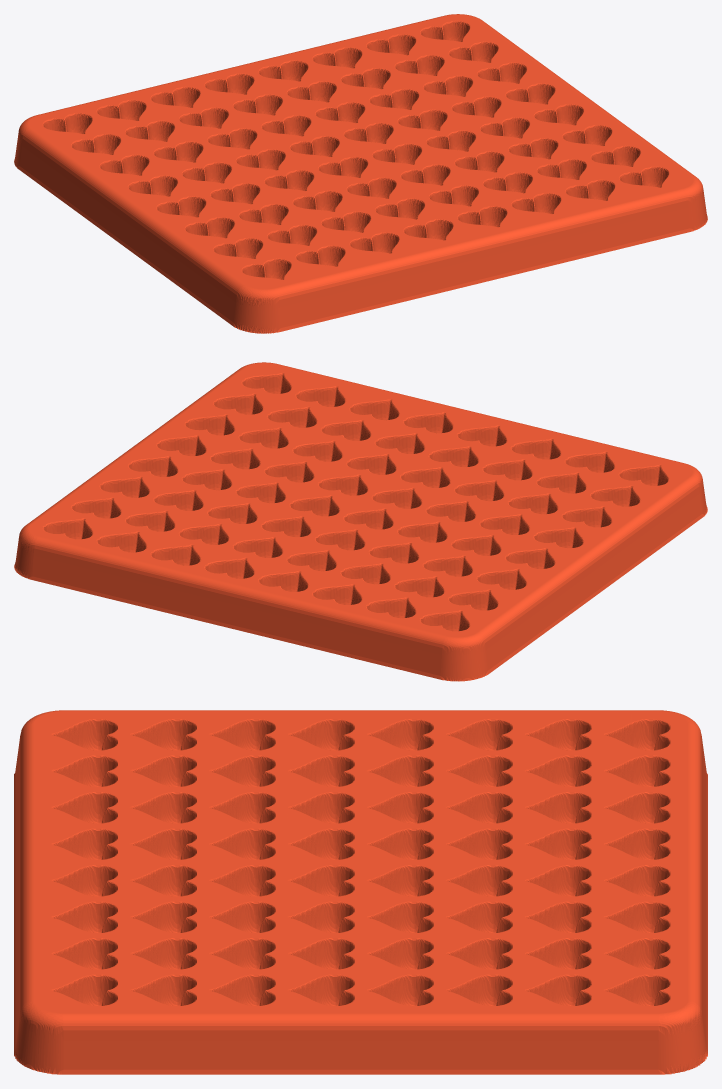
Rendered from mold.glb.
3 renders of one model, top to bottom at view 1: azimuth 30°, elevation 25°; view 2: azimuth 150°, elevation 25°; view 3: azimuth 270°, elevation 25°, orthographic. The views are drawn at different scales.
Visible parts, largest first — view 1: geometry_0; view 2: geometry_0; view 3: geometry_0.
Part boxes in pixels (bbox=[...]): geometry_0: bbox=[14, 14, 707, 333]; geometry_0: bbox=[14, 362, 707, 681]; geometry_0: bbox=[14, 710, 707, 1074].
Size of the model in its own units: 0.1355 by 0.0105 by 0.1247.
